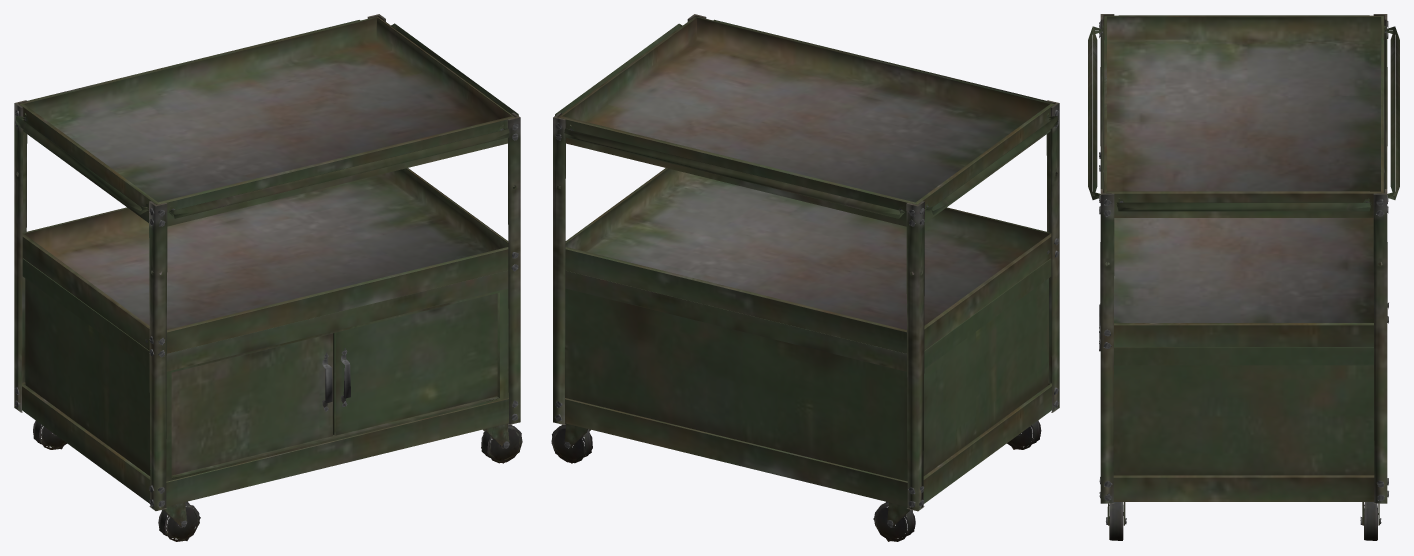
Rendered from industrial_storage_cart.glb.
3 renders of one model, left to right at view 1: azimuth 30°, elevation 25°; view 2: azimuth 150°, elevation 25°; view 3: azimuth 270°, elevation 25°, orthographic.
Visible parts, largest first — view 1: CC0_industrial_storage_cart; view 2: CC0_industrial_storage_cart; view 3: CC0_industrial_storage_cart.
Part boxes in pixels (bbox=[...]): CC0_industrial_storage_cart: bbox=[14, 14, 522, 541]; CC0_industrial_storage_cart: bbox=[551, 14, 1059, 541]; CC0_industrial_storage_cart: bbox=[1088, 14, 1399, 540].
Bounding box in the file's own units: 1.48 × 1.27 × 1.02.
1 material, 1 textured.
